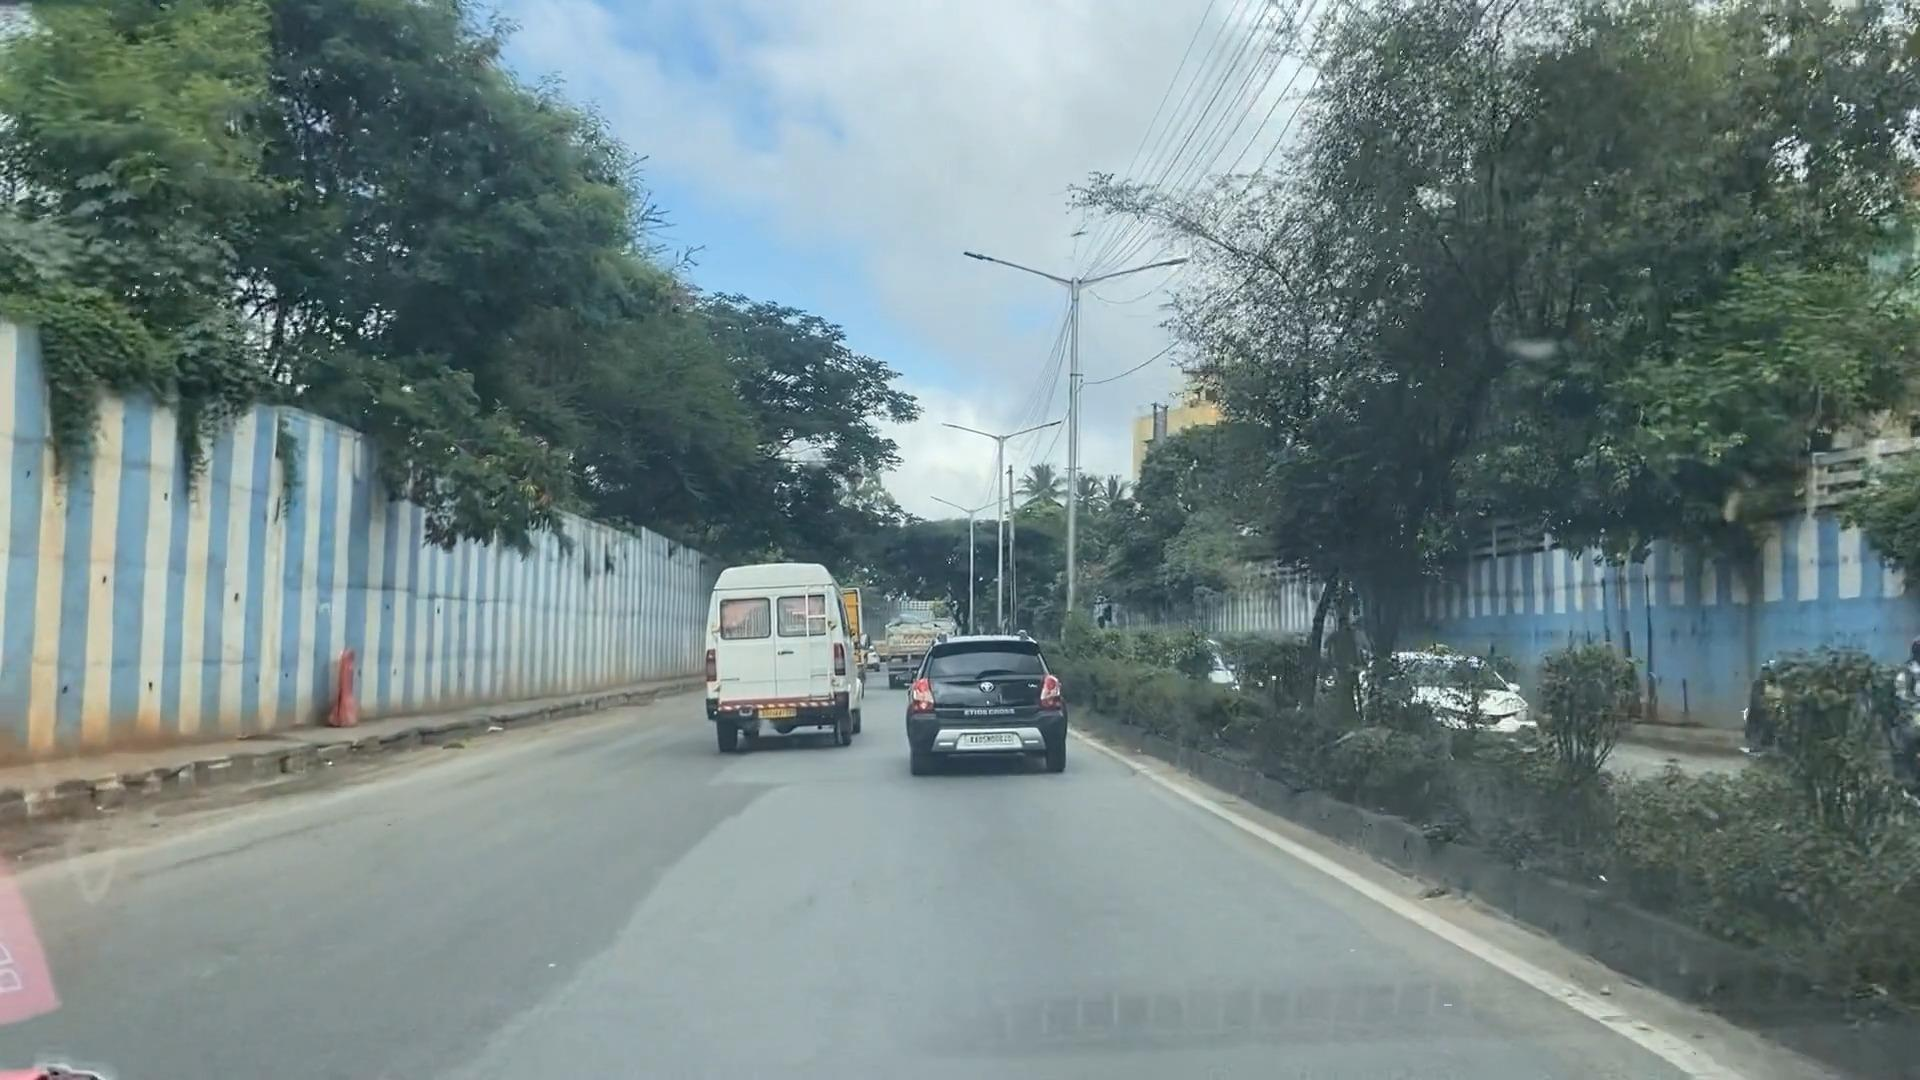HMV: (699, 567, 840, 735)
LMV: (905, 645, 1051, 769)
UnsurfacedRoad: (467, 819, 727, 1014)
